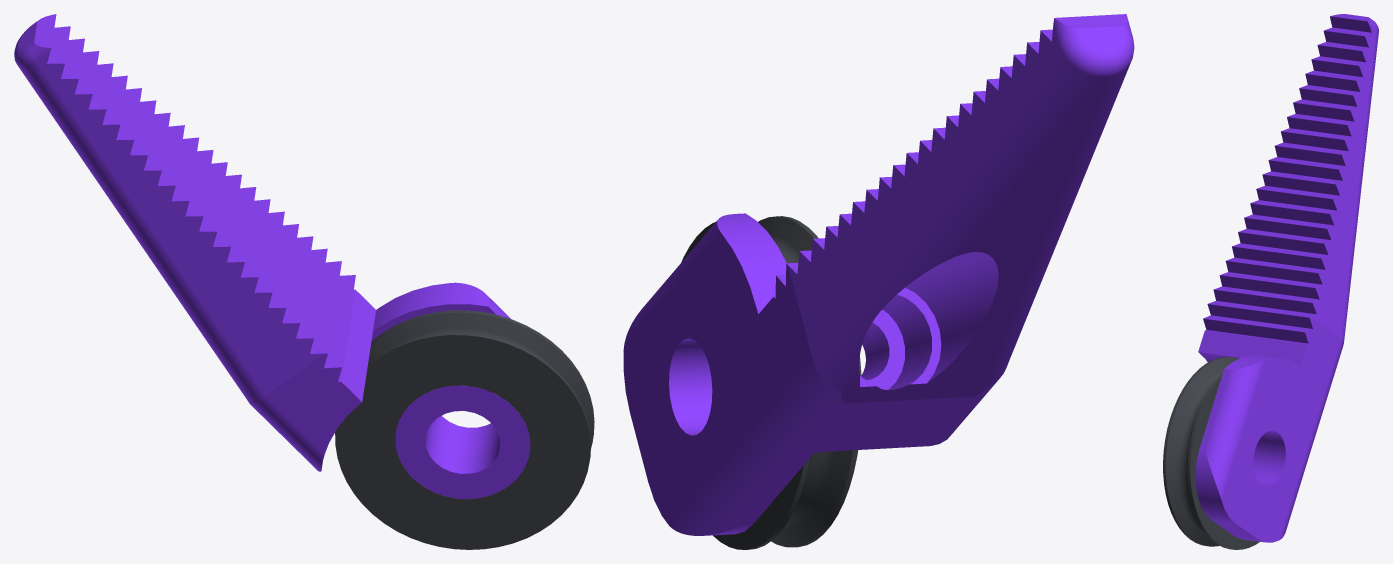
Rendered from grasper_2.dae.
The picture shows the model from 3 angles, left to right: view 1: azimuth 30°, elevation 25°; view 2: azimuth 150°, elevation 25°; view 3: azimuth 270°, elevation 25°; orthographic projection. The views are drawn at different scales.
Parts seen in each view (by area): view 1: Actor0, Actor1; view 2: Actor0, Actor1; view 3: Actor0, Actor1.
Part boxes in pixels (bbox=[...]): Actor0: bbox=[14, 14, 530, 498]; Actor1: bbox=[335, 310, 594, 549]; Actor0: bbox=[623, 14, 1134, 535]; Actor1: bbox=[681, 216, 861, 549]; Actor0: bbox=[1195, 14, 1378, 542]; Actor1: bbox=[1163, 357, 1259, 549].
Bounding box in the file's own units: 0.0183 × 0.0199 × 0.00963.
